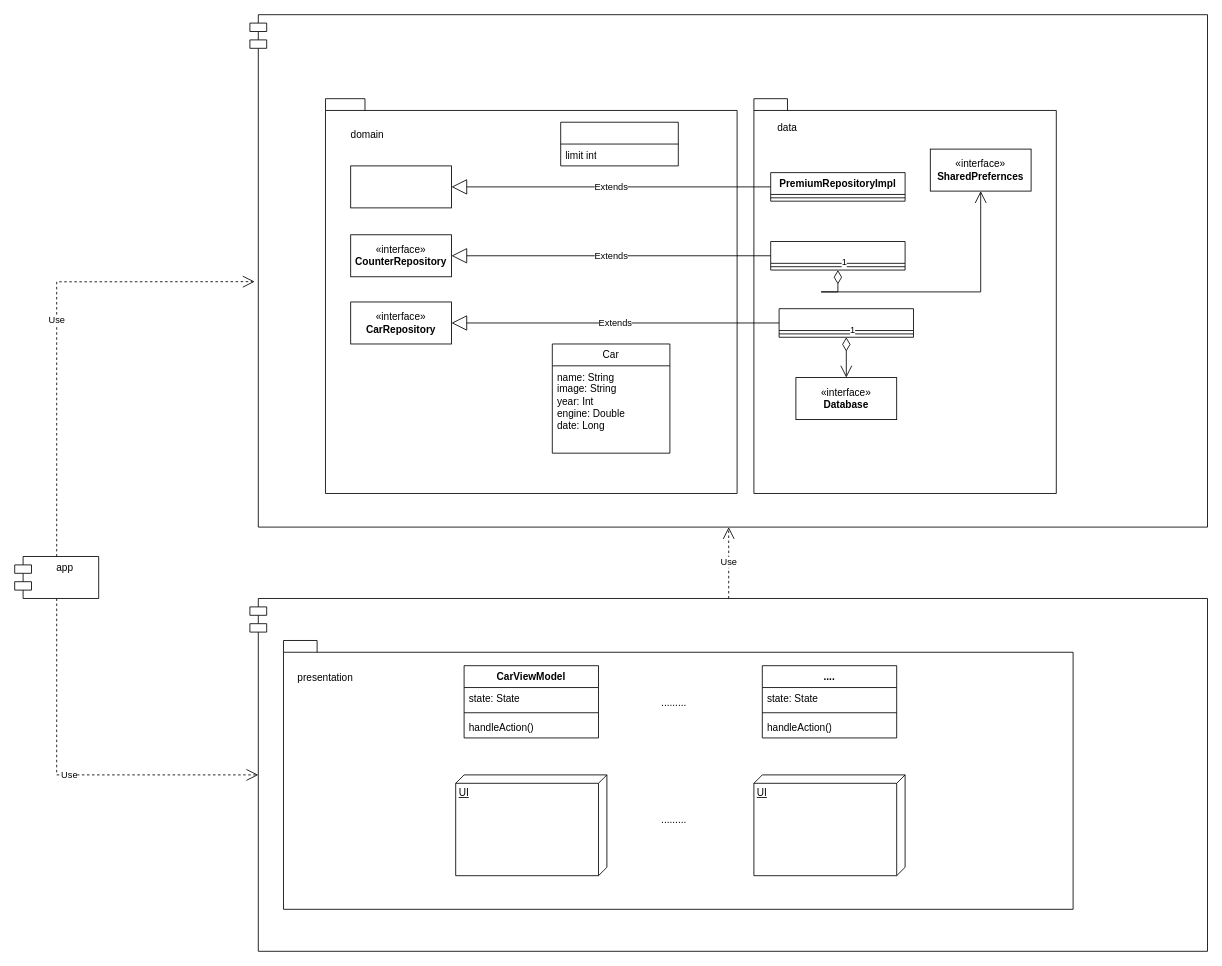
Image size: 1222x966. Some labels were removed from this diagram. Each missing label, with the box of its shape:
CarRepositoryImpl: (778, 308, 914, 337)
core: (249, 14, 1208, 527)
CounterRepositoryImpl: (770, 241, 905, 270)
features: (249, 598, 1208, 951)
Subscription: (560, 121, 678, 166)
«interface» PremiumRepository: (350, 165, 452, 208)
